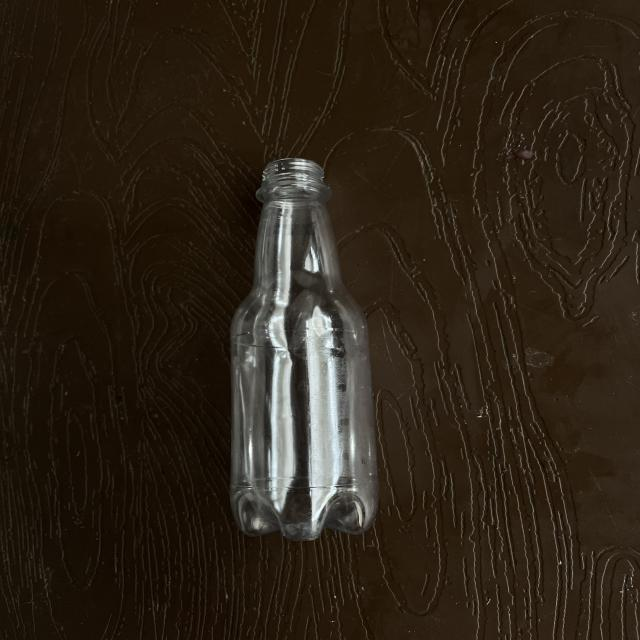PET_ClearBottle: (220, 159, 391, 598)
